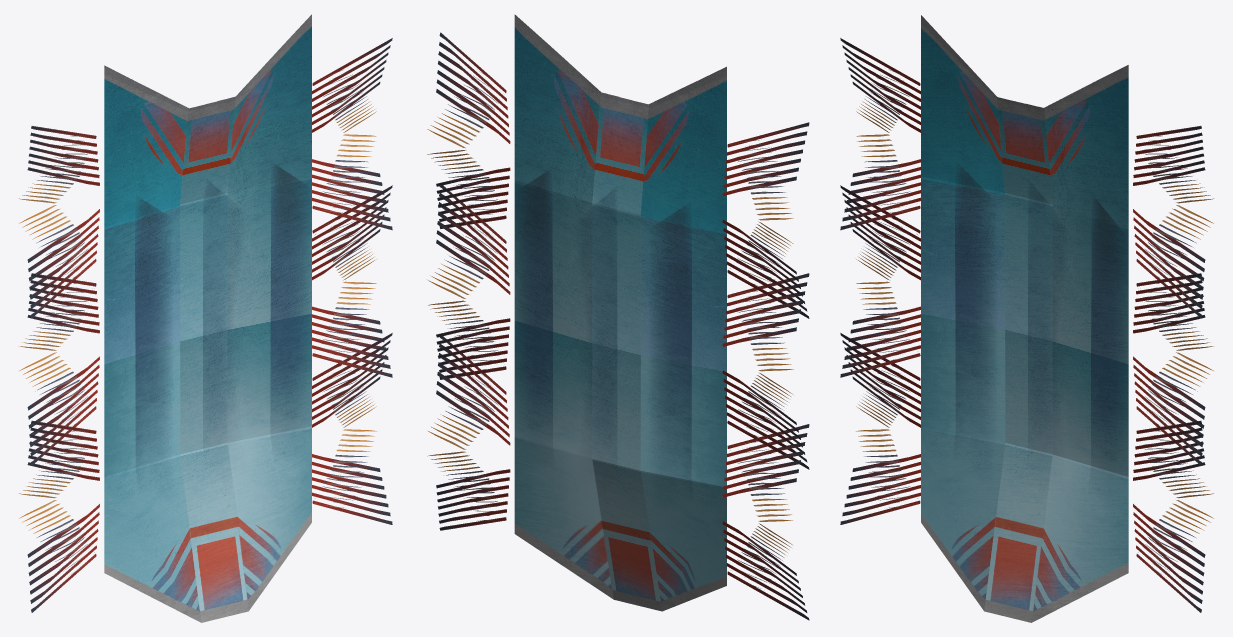
The model's file is touch_3.obj.
The picture shows the model from 3 angles, left to right: view 1: azimuth 30°, elevation 25°; view 2: azimuth 150°, elevation 25°; view 3: azimuth 330°, elevation 25°; orthographic projection. The views are drawn at different scales.
Visible parts, largest first — view 1: head, fur_R_01, fur_R_03, fur_L_01, fur_L_03, fur_L_02, fur_R_02; view 2: head, fur_R_01, fur_R_03, fur_L_01, fur_L_03, fur_R_02, fur_L_02; view 3: head, fur_L_01, fur_R_01, fur_L_03, fur_R_03, fur_L_02, fur_R_02.
Part boxes in pixels (x1=…): head: x1=104, y1=14, x2=311, y2=622; fur_R_01: x1=19, y1=126, x2=99, y2=317; fur_R_03: x1=19, y1=420, x2=99, y2=612; fur_L_01: x1=312, y1=38, x2=392, y2=230; fur_L_03: x1=312, y1=333, x2=392, y2=524; fur_L_02: x1=312, y1=185, x2=392, y2=377; fur_R_02: x1=19, y1=273, x2=99, y2=465; head: x1=514, y1=14, x2=726, y2=611; fur_R_01: x1=722, y1=122, x2=809, y2=318; fur_R_03: x1=722, y1=424, x2=809, y2=620; fur_L_01: x1=427, y1=32, x2=510, y2=228; fur_L_03: x1=427, y1=336, x2=510, y2=530; fur_R_02: x1=722, y1=273, x2=809, y2=469; fur_L_02: x1=428, y1=185, x2=510, y2=379; head: x1=921, y1=15, x2=1128, y2=622; fur_L_01: x1=1133, y1=126, x2=1213, y2=317; fur_R_01: x1=840, y1=38, x2=920, y2=230; fur_L_03: x1=1133, y1=420, x2=1213, y2=612; fur_R_03: x1=840, y1=333, x2=920, y2=524; fur_L_02: x1=1133, y1=273, x2=1213, y2=465; fur_R_02: x1=840, y1=185, x2=920, y2=377.
Bounding box in the file's own units: 318 × 474 × 44.84.
Materials: 1 (1 with a texture image).
